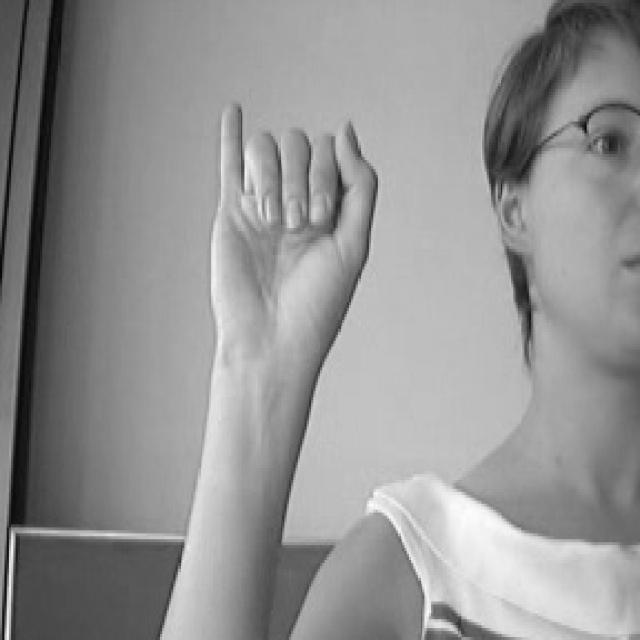I: (195, 81, 389, 364)
